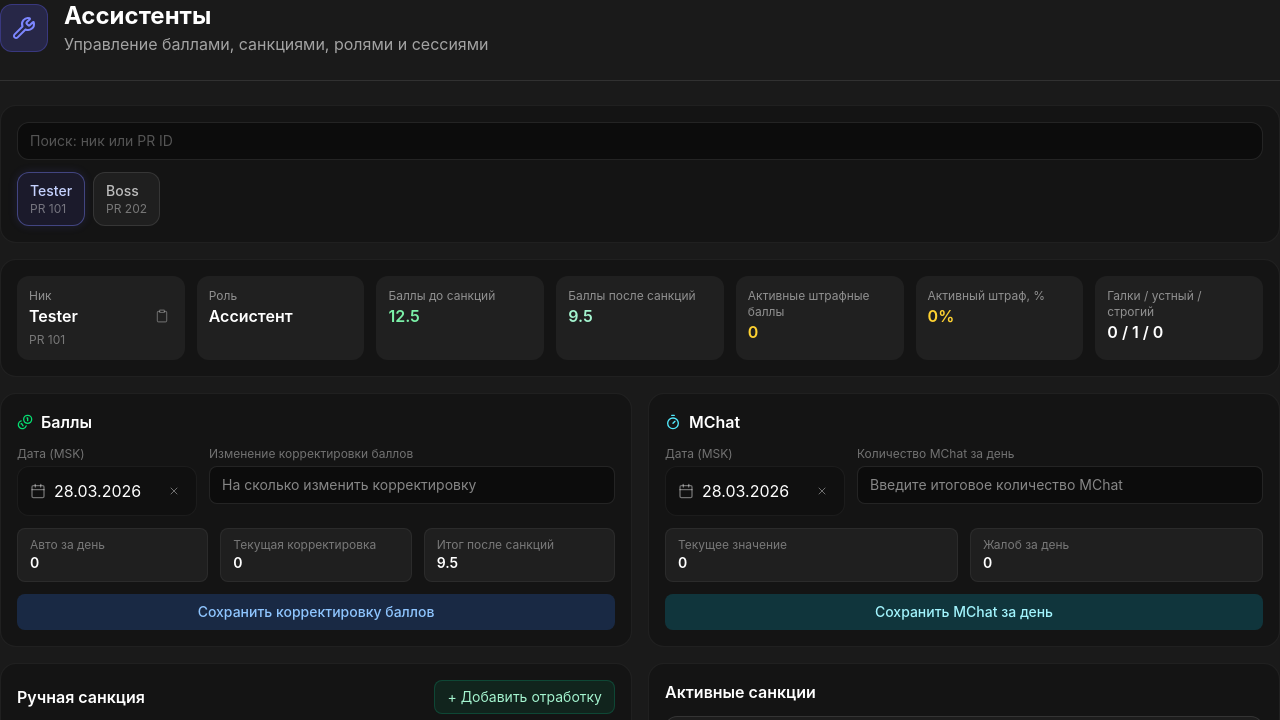
Test: AssistantsManagement › requests workoff preview and renders leave-aware breakdown
Expected: the text "Ручная санкция" is shown, [17, 685, 145, 709]
Click the button "+ Добавить отработку": (525, 697) [434, 680, 615, 714]
(page scrolled)
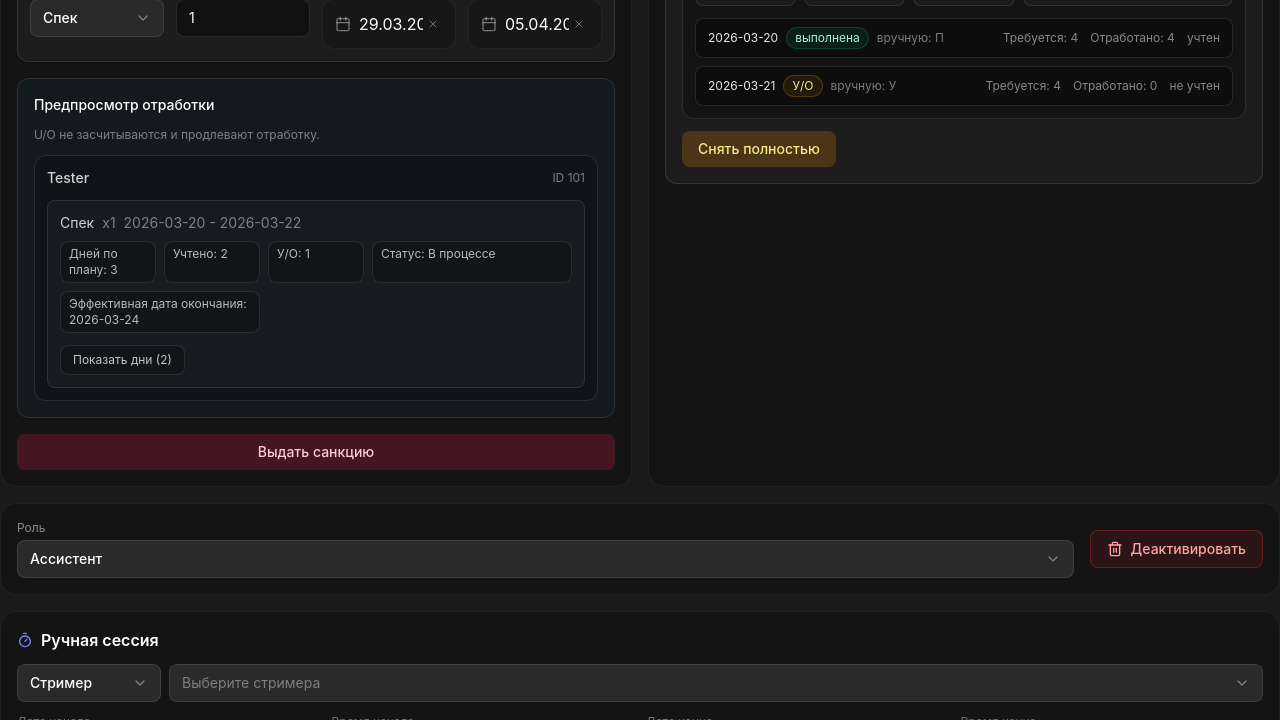
Expected: the text "U/O не засчитываются и продлевают отработку." is shown, [34, 127, 320, 142]
Expected: the text "Дней по плану: 3" is shown, [60, 241, 156, 283]
Expected: the text "Эффективная дата окончания: 2026-03-24" is shown, [60, 291, 260, 333]
Click the button "Показать дни (2)": (122, 360) [60, 345, 185, 375]
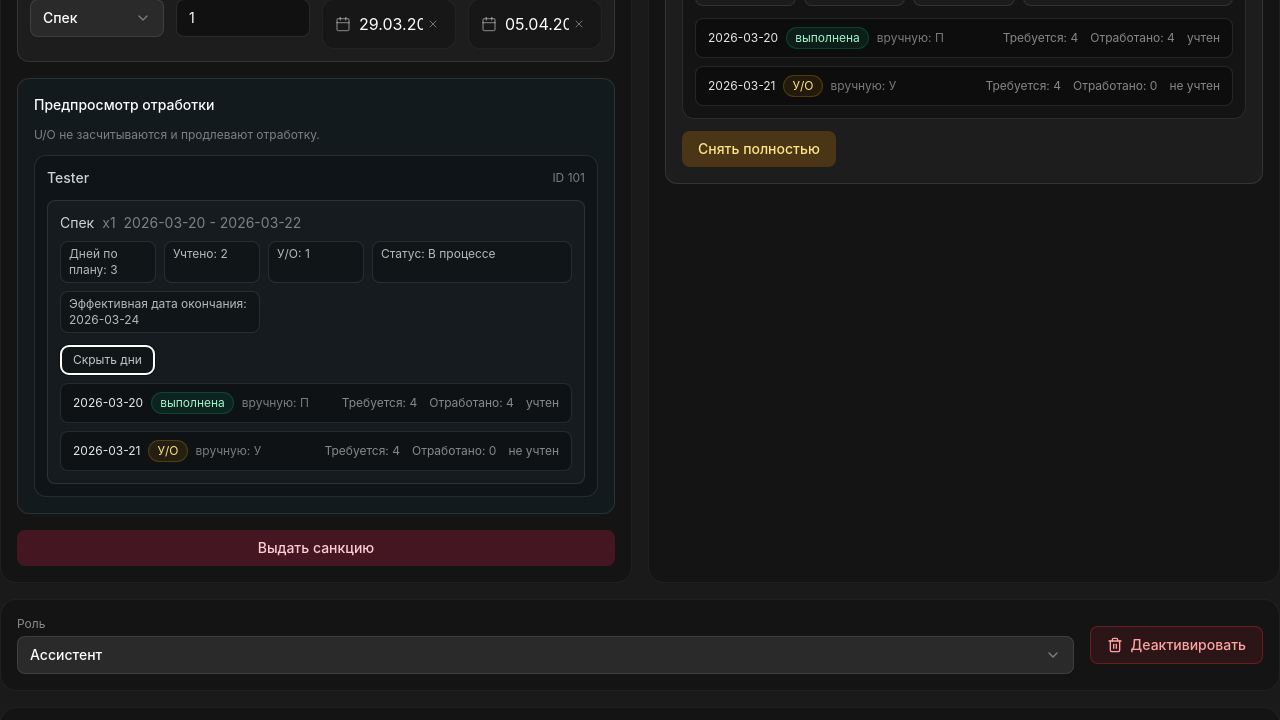
Expected: the button "Скрыть дни" is shown, [60, 345, 155, 375]
Expected: the text "вручную: У" below "Эффективная дата окончания:" is shown, [196, 443, 261, 458]
